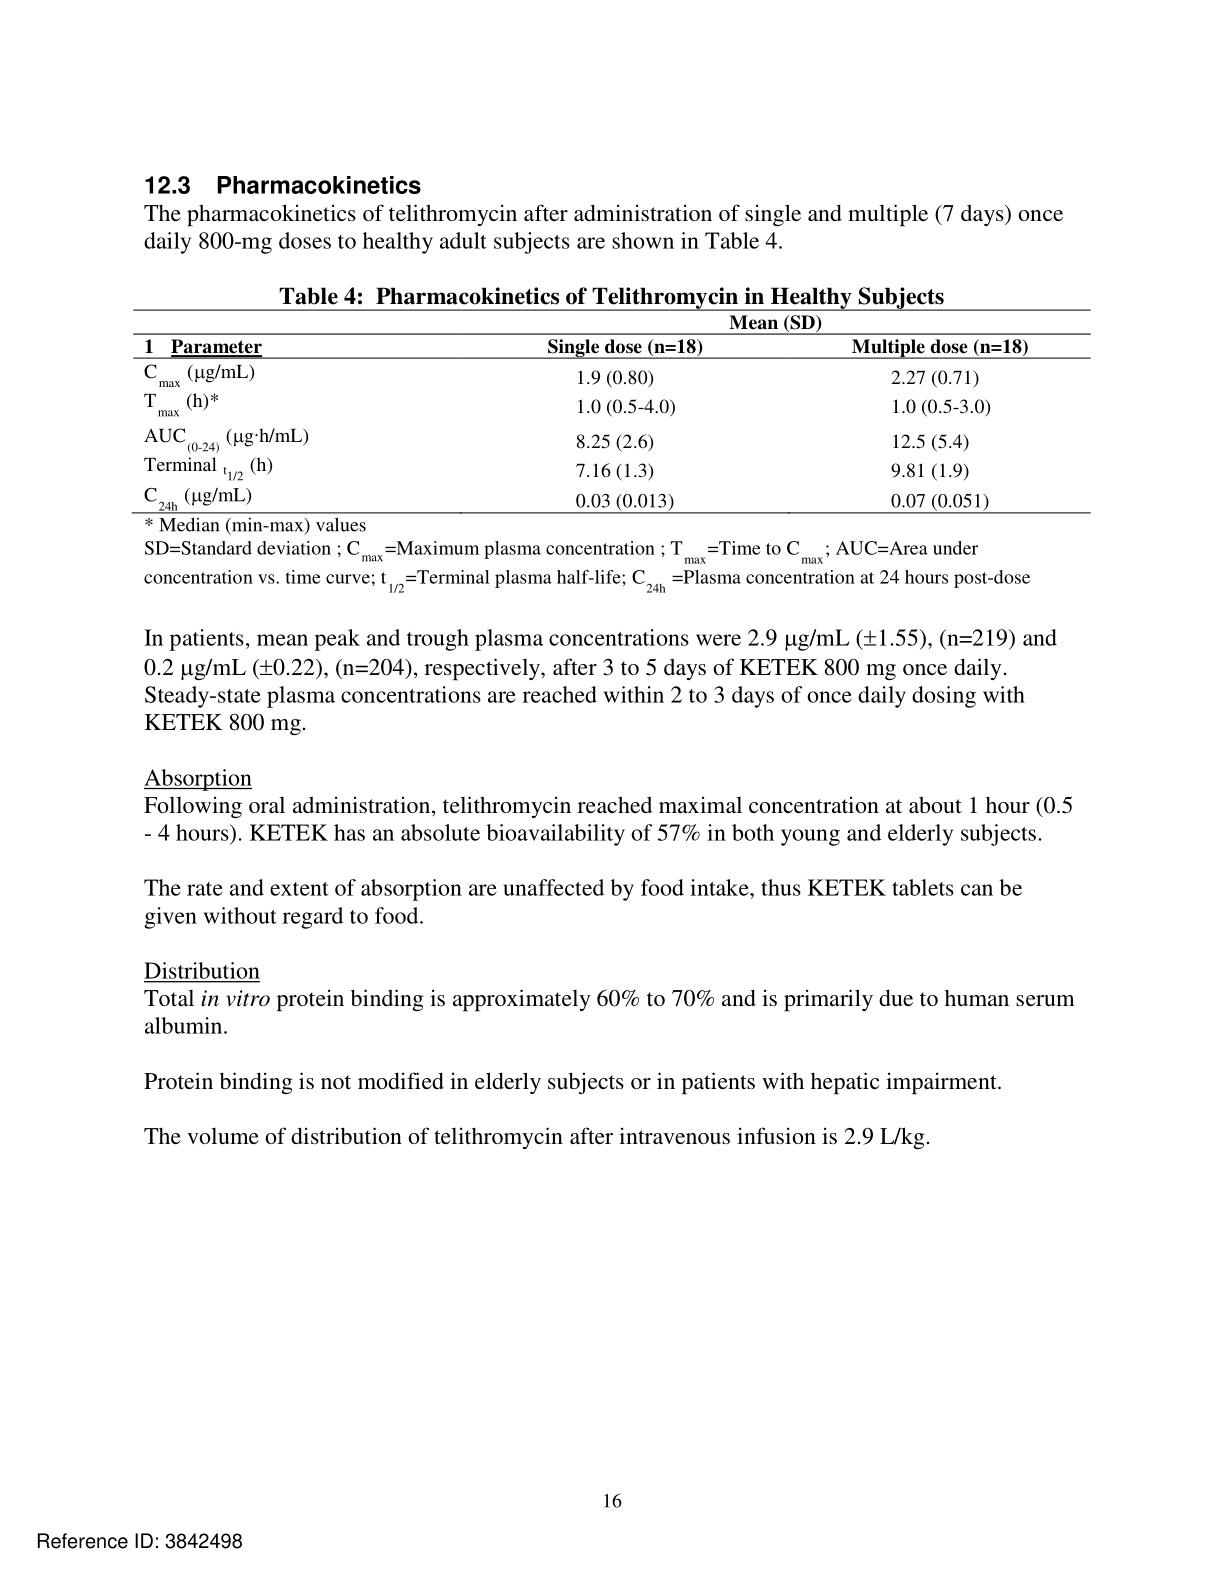partial_lined_merged_cells: (130, 309, 1092, 516)
